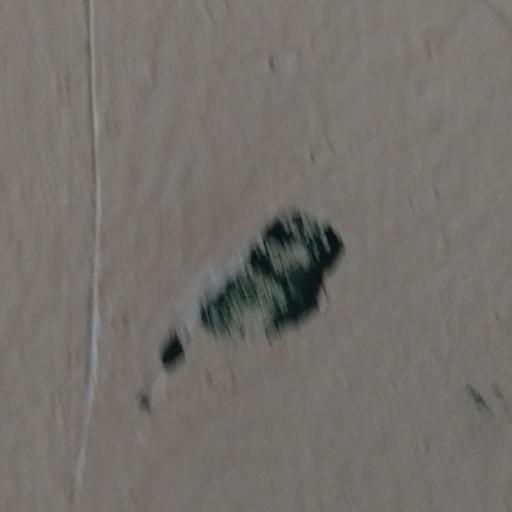stain: (89, 177, 396, 420)
